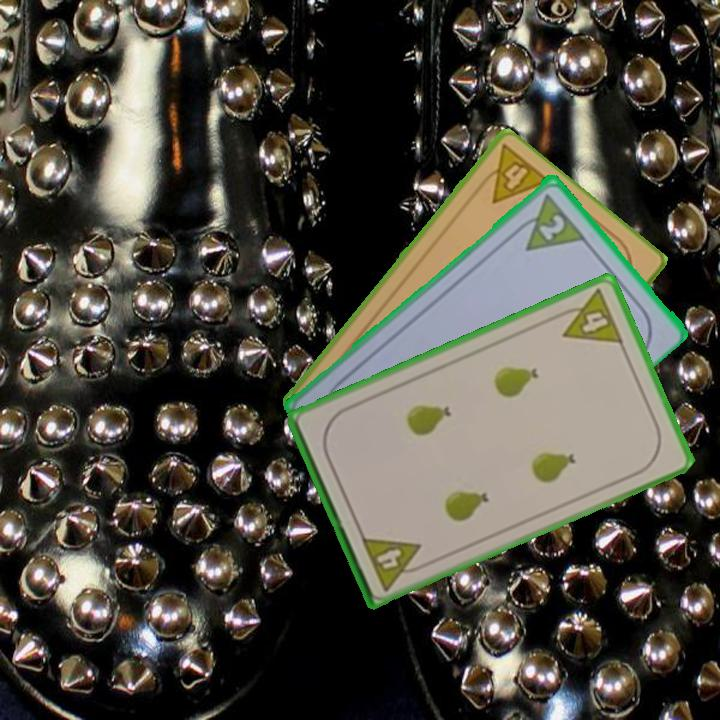2p: (508, 188, 588, 254)
4p: (470, 141, 553, 207), (551, 285, 626, 347), (357, 532, 430, 594)
